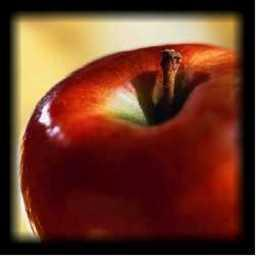apple: (18, 38, 240, 242)
